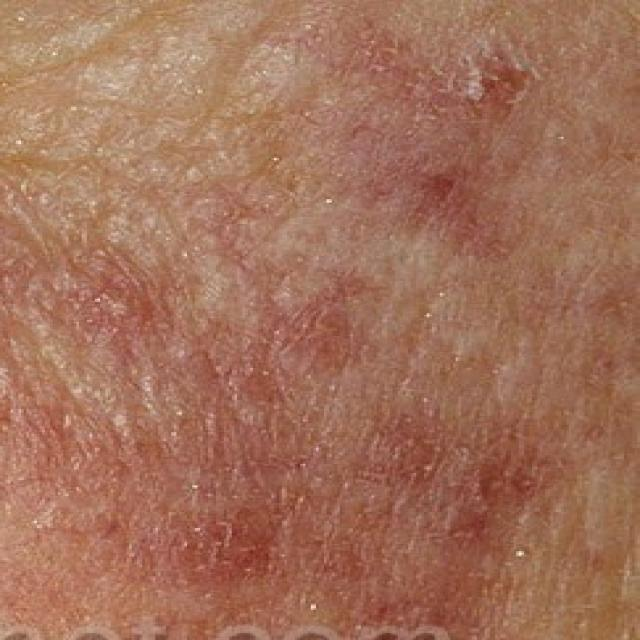Rosacea: (25, 148, 548, 633)
